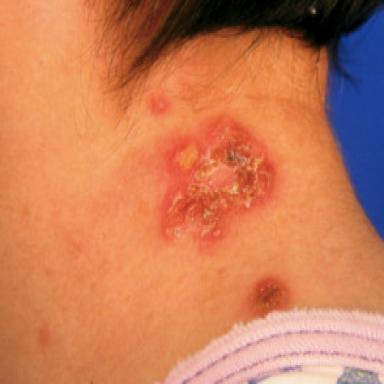Epidermolysis-Bullosa-Pruriginosa: (162, 116, 274, 240), (249, 276, 290, 316), (150, 95, 171, 115)
